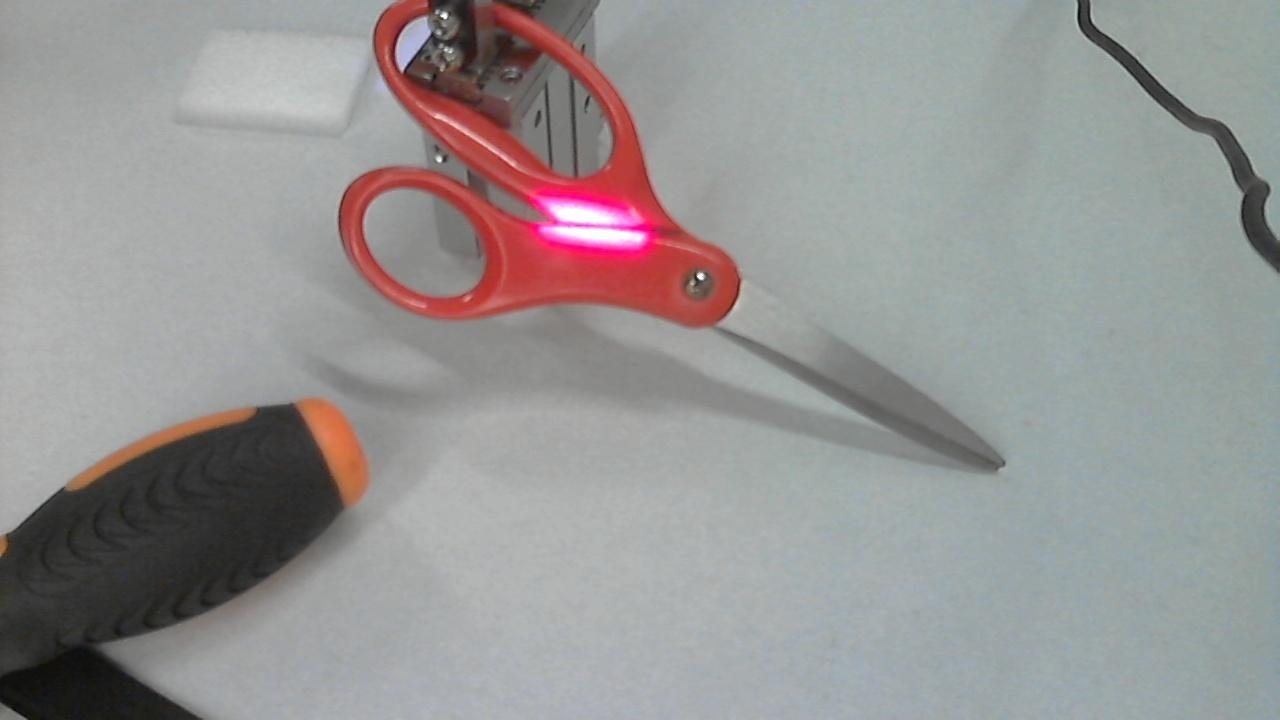Object scissors - Material plastic - Pdfname tYexGlkiIXWc: (500, 170, 660, 285)
